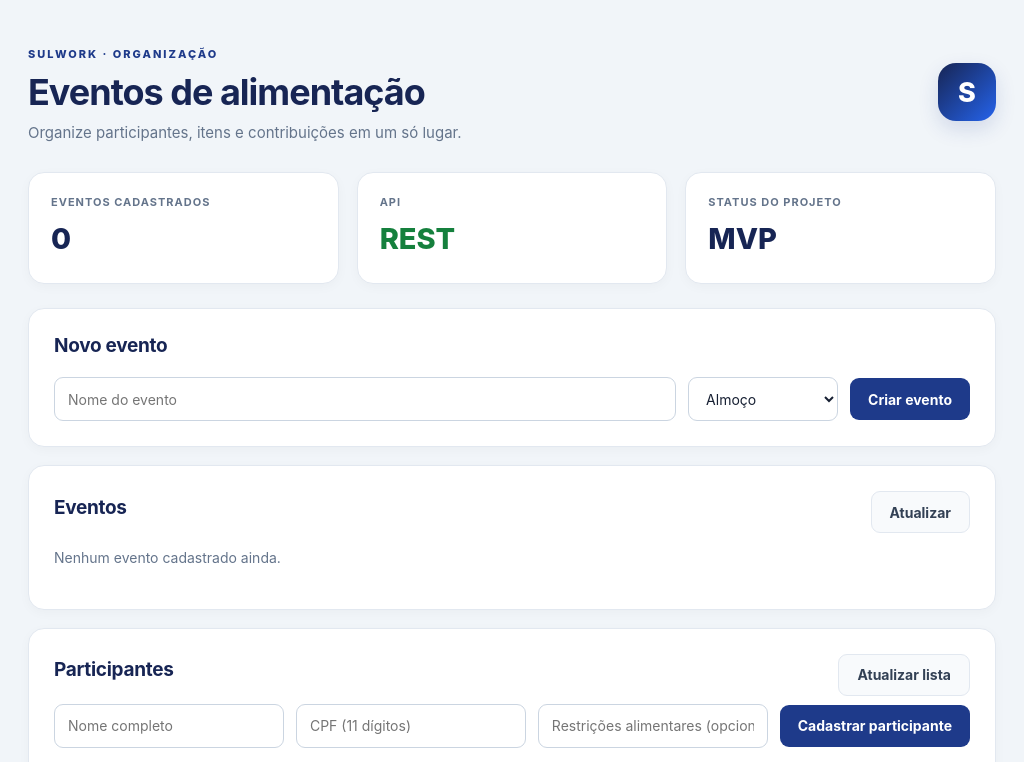
Test case: Sulwork frontend › envia os dados corretos ao cadastrar um evento
Type "Evento de teste" into the field labelled "Nome do evento".
click(365, 399); type("Evento de teste")  # box [54,377,676,421]
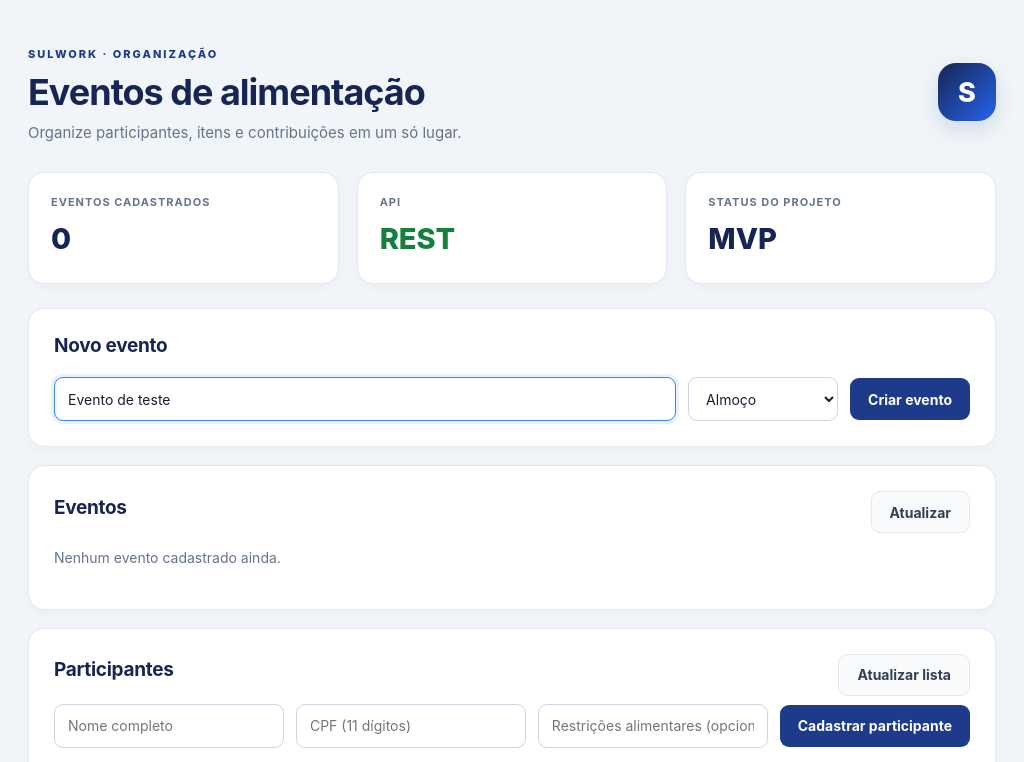
Select "Jantar" in the dropdown named "Tipo do evento" at (763, 399), box [688,377,838,421]
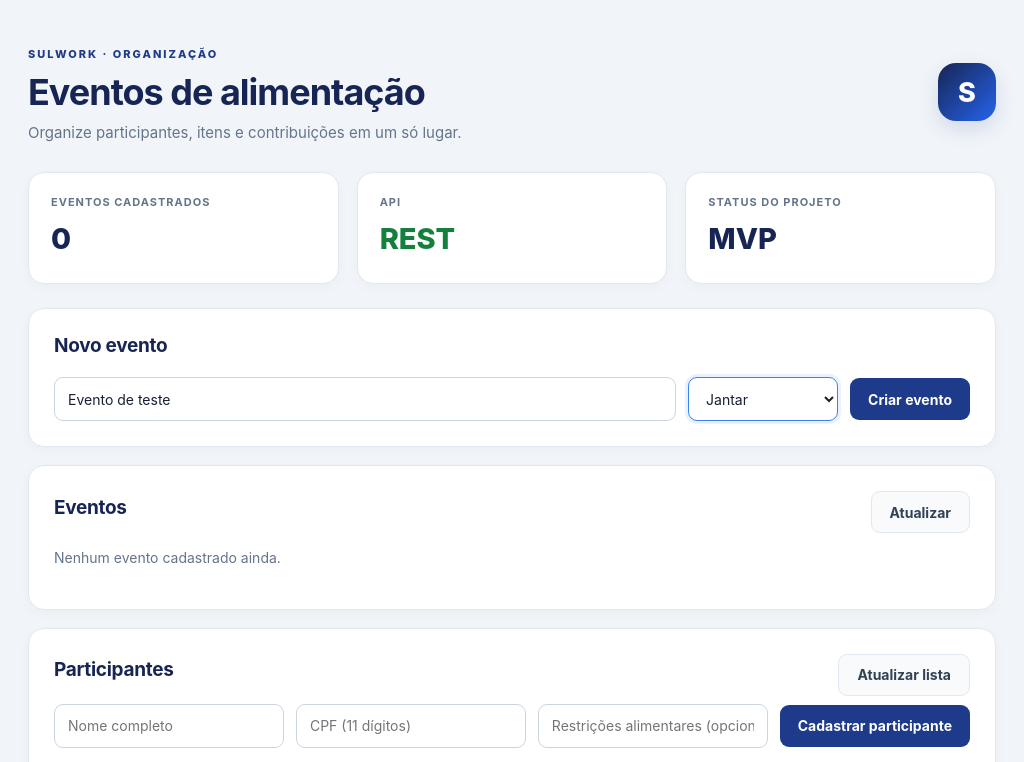
Click the button "Criar evento".
click(910, 399)  # box [850,378,970,420]
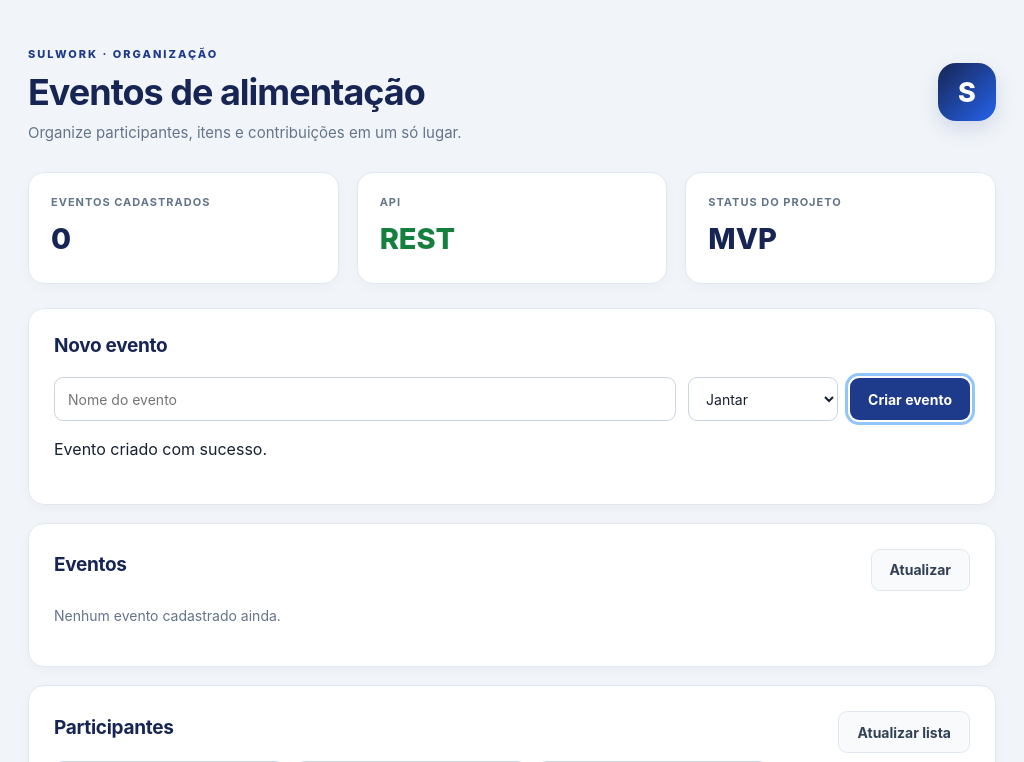
Check: the text "Evento criado com sucesso." is shown, box [54,439,267,459]
Check: the field labelled "Nome do evento" is empty, box [54,377,676,421]
